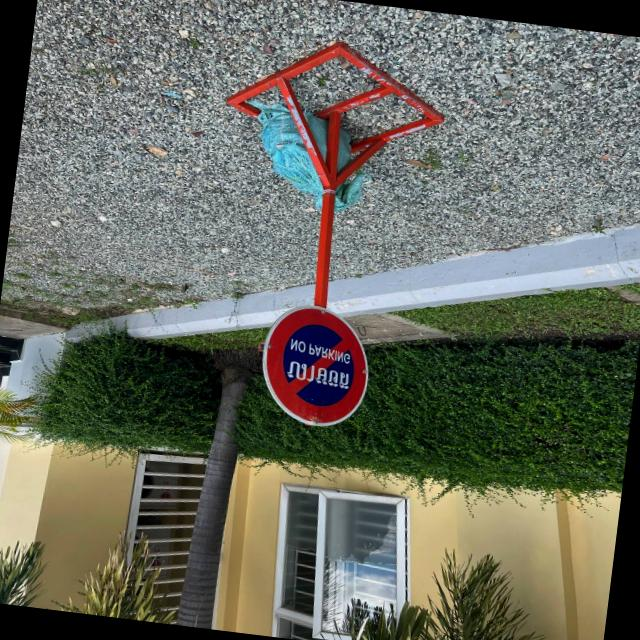Yolov11_80vkh: (280, 352, 355, 393)
